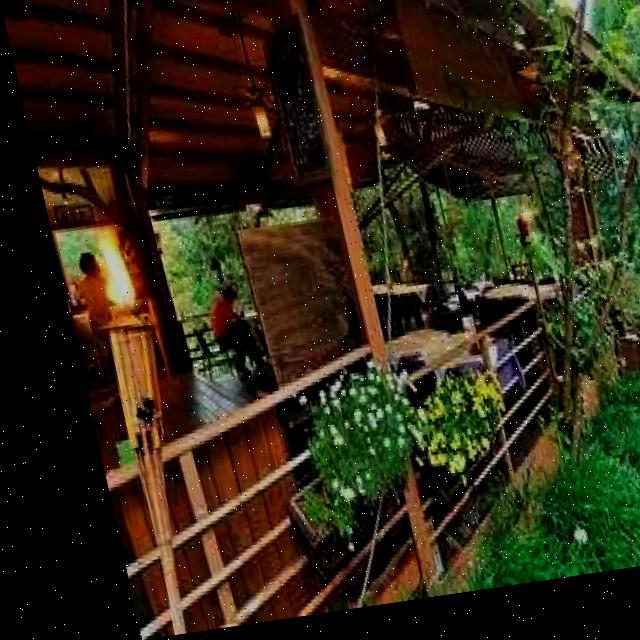Fire: (78, 223, 124, 314)
